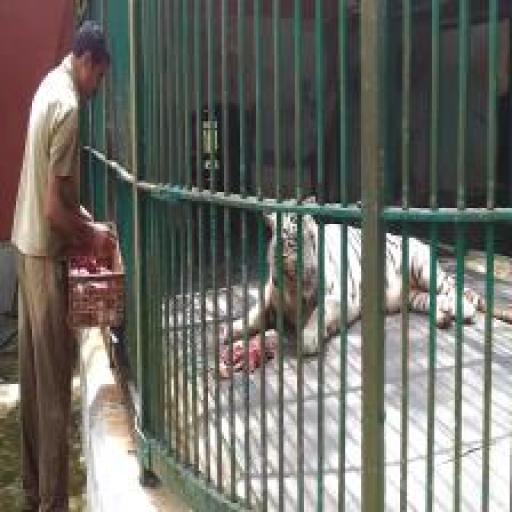Tiger: (219, 199, 512, 361)
